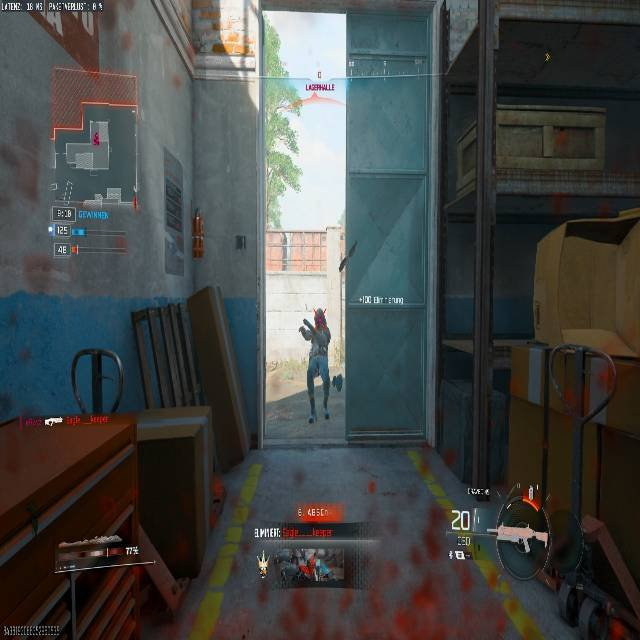head: (312, 306, 327, 326)
player: (300, 306, 335, 392)
